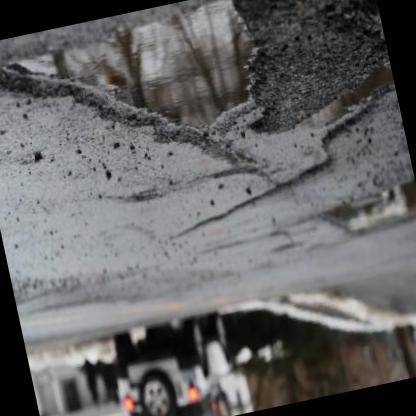pothole: (0, 0, 279, 186), (215, 59, 412, 204), (314, 176, 416, 245)
